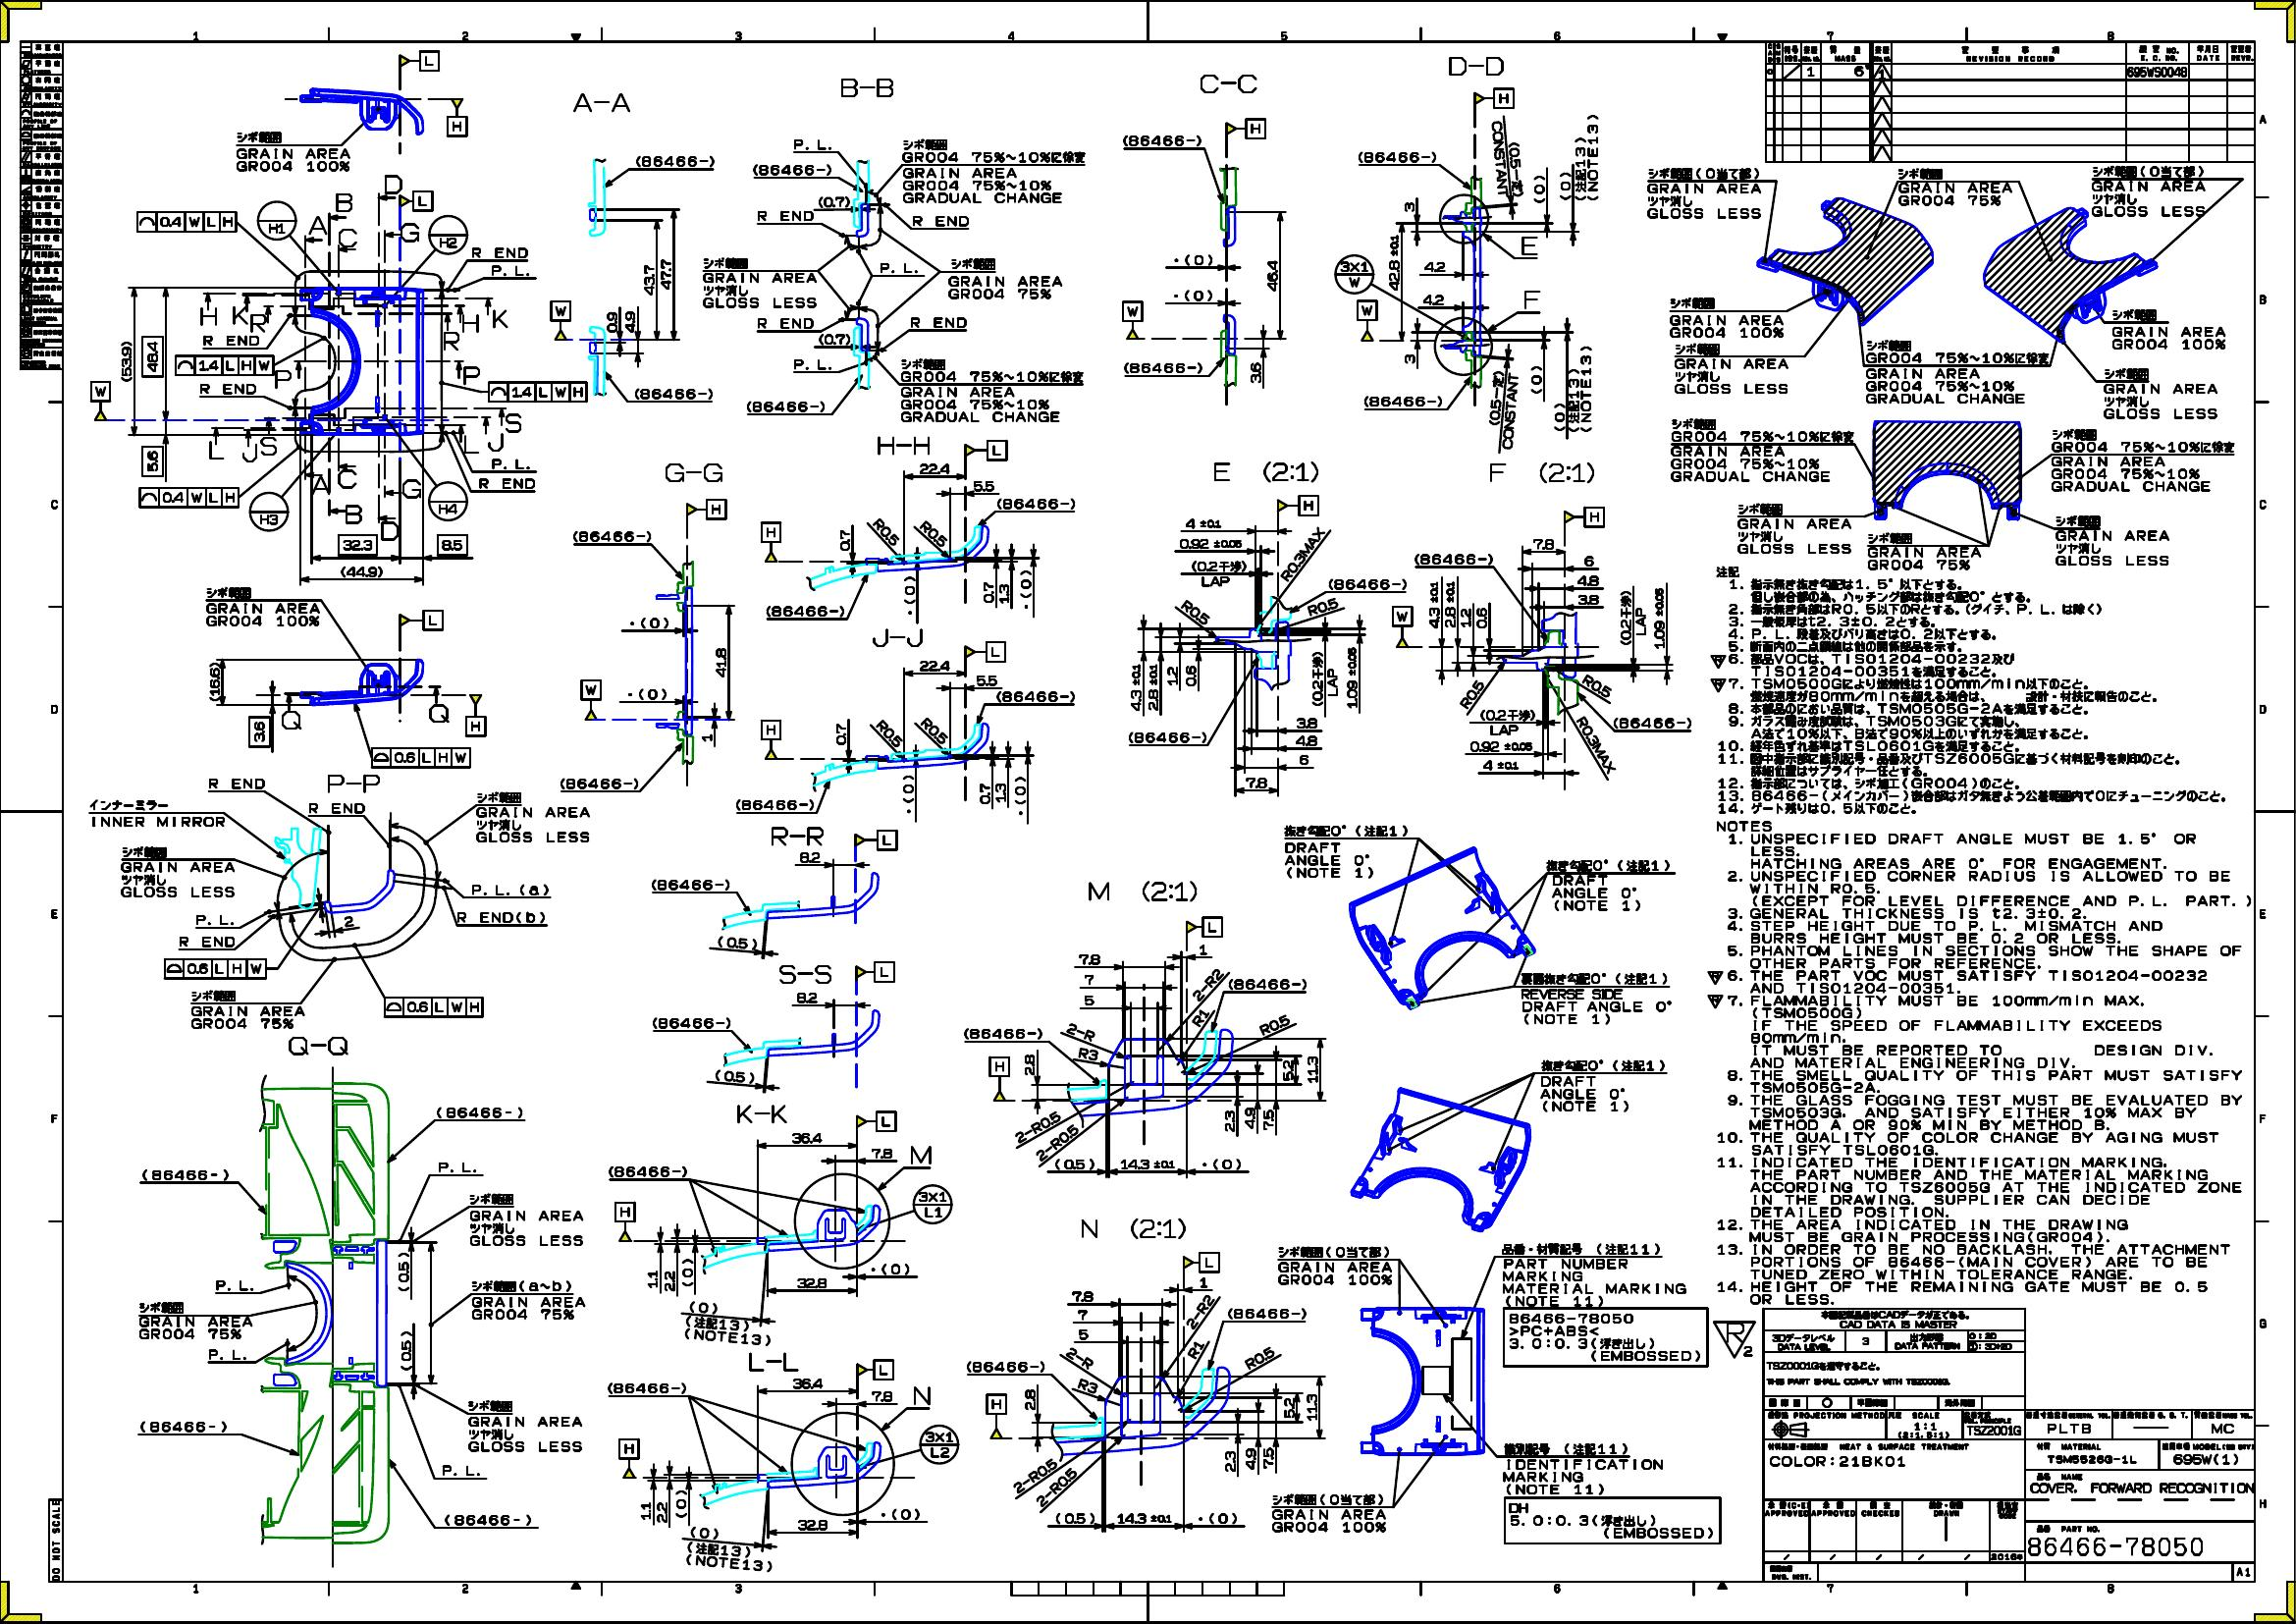anntotation_text: (1709, 816, 2245, 1306), (1706, 564, 2236, 816), (1497, 1239, 1688, 1309), (899, 137, 1087, 206), (2048, 429, 2236, 496), (899, 359, 1086, 425), (1866, 337, 2050, 404), (1669, 417, 1853, 483), (1502, 1308, 1709, 1362), (1504, 1496, 1722, 1543), (1497, 1441, 1665, 1496), (1521, 972, 1674, 1030), (1537, 1060, 1669, 1118), (1544, 858, 1671, 916), (1281, 824, 1409, 881), (464, 1397, 585, 1454), (1646, 165, 1765, 221), (1672, 341, 1794, 395), (1736, 501, 1855, 555), (467, 1192, 585, 1246), (699, 255, 817, 309), (119, 844, 237, 898), (473, 791, 590, 844), (2103, 367, 2219, 420), (2092, 163, 2208, 216), (2055, 515, 2170, 566), (947, 257, 1065, 304), (469, 1276, 587, 1322), (204, 585, 323, 629), (2108, 308, 2227, 352), (1895, 163, 2015, 207), (188, 988, 306, 1032), (1667, 295, 1785, 339), (234, 130, 350, 174), (135, 1301, 255, 1343), (1866, 531, 1982, 573), (88, 798, 225, 831), (1270, 1492, 1388, 1531), (1279, 1246, 1391, 1287), (1075, 1213, 1186, 1244), (1209, 457, 1321, 487), (1084, 877, 1203, 905), (1483, 459, 1599, 487), (1572, 112, 1602, 204), (683, 1543, 773, 1571), (1490, 367, 1520, 450), (1567, 341, 1593, 434), (685, 1316, 769, 1345), (139, 487, 239, 510), (1493, 118, 1521, 199), (163, 958, 267, 979), (135, 211, 237, 232), (1188, 555, 1247, 591), (383, 998, 485, 1018), (174, 355, 276, 374), (1309, 649, 1339, 714), (371, 749, 471, 768), (1332, 253, 1375, 297), (488, 383, 587, 402), (1442, 53, 1509, 81), (425, 213, 467, 257), (1713, 1316, 1755, 1359), (917, 1422, 959, 1464), (425, 480, 467, 522), (1618, 589, 1648, 647), (913, 1183, 954, 1225), (256, 199, 297, 241), (248, 492, 290, 533), (455, 909, 548, 926), (443, 1510, 532, 1527), (1477, 708, 1535, 735), (662, 459, 724, 483), (1198, 72, 1260, 97), (606, 1162, 690, 1179), (557, 773, 641, 791), (631, 385, 715, 402), (1123, 359, 1205, 376), (1356, 148, 1439, 165), (137, 1418, 228, 1434), (733, 1100, 791, 1125), (632, 153, 713, 170), (963, 1025, 1043, 1042), (285, 1035, 346, 1058), (437, 1106, 525, 1121), (1613, 714, 1692, 731), (1409, 550, 1497, 566), (135, 1165, 234, 1179), (873, 432, 933, 455), (571, 90, 631, 112), (569, 526, 655, 541), (1325, 575, 1411, 591), (731, 798, 817, 814), (1358, 392, 1444, 408), (745, 399, 829, 415), (1224, 1304, 1307, 1320), (469, 881, 552, 896), (1121, 132, 1203, 148), (1126, 729, 1209, 745), (1226, 975, 1309, 991), (650, 1012, 733, 1028), (648, 875, 731, 891), (768, 824, 824, 847), (964, 1359, 1045, 1374), (996, 496, 1077, 511), (323, 772, 383, 793), (776, 963, 831, 986), (47, 1497, 61, 1584), (748, 163, 833, 178), (994, 689, 1079, 703), (762, 605, 845, 619), (870, 626, 924, 647), (606, 1380, 687, 1394), (984, 1392, 1007, 1439), (747, 1352, 798, 1373), (908, 313, 966, 330), (987, 1056, 1010, 1100), (306, 800, 369, 816), (474, 475, 538, 490), (617, 1438, 641, 1478), (580, 680, 604, 721), (1267, 547, 1337, 561), (1560, 738, 1630, 752), (755, 207, 817, 223), (1121, 301, 1145, 339), (912, 213, 971, 228), (177, 933, 237, 949), (202, 332, 262, 348), (399, 610, 443, 631), (761, 719, 783, 759), (964, 640, 1005, 663), (1224, 118, 1267, 139), (964, 439, 1007, 460), (685, 497, 727, 518), (466, 694, 487, 736), (197, 381, 260, 395), (550, 299, 571, 341), (1277, 496, 1319, 517), (1393, 605, 1414, 647), (1563, 506, 1606, 527), (856, 830, 898, 851), (90, 381, 112, 420), (1184, 916, 1223, 939), (615, 1202, 636, 1243), (856, 1111, 896, 1132), (399, 49, 439, 70), (1474, 88, 1514, 109), (755, 315, 813, 329), (207, 777, 265, 791), (854, 961, 892, 982), (1358, 299, 1377, 341), (436, 1461, 481, 1478), (761, 522, 780, 562), (856, 1359, 892, 1380), (436, 1158, 480, 1176), (471, 244, 532, 257), (789, 355, 836, 371), (485, 262, 532, 278), (1182, 1251, 1221, 1271), (446, 98, 466, 137), (877, 258, 922, 274), (399, 190, 432, 211), (399, 218, 423, 246), (195, 912, 237, 928), (206, 1345, 246, 1360), (213, 1278, 255, 1292), (791, 137, 833, 151), (1520, 232, 1541, 260), (488, 457, 532, 469), (908, 1142, 931, 1165), (332, 190, 355, 213), (381, 172, 404, 195), (306, 213, 327, 237), (402, 478, 423, 501), (490, 308, 511, 330), (281, 708, 302, 729), (439, 330, 460, 352), (912, 1385, 931, 1408), (337, 466, 357, 489), (462, 366, 481, 388), (1521, 288, 1541, 311), (339, 225, 357, 250), (460, 434, 480, 455), (429, 703, 450, 722), (248, 313, 269, 332), (239, 443, 258, 464), (504, 411, 523, 432), (460, 313, 480, 334), (487, 431, 504, 453), (379, 518, 397, 541), (230, 304, 248, 325), (260, 436, 278, 457), (311, 475, 329, 496), (346, 501, 362, 524), (199, 306, 216, 325), (274, 369, 292, 388), (207, 439, 223, 460)
dimension_text: (1177, 534, 1242, 550), (1651, 587, 1667, 650), (1121, 1153, 1175, 1171), (1467, 738, 1534, 752), (337, 533, 378, 555), (141, 337, 163, 378), (1116, 1508, 1173, 1524), (1386, 232, 1400, 297), (116, 339, 134, 387), (1426, 580, 1442, 631), (711, 1067, 755, 1084), (1029, 1480, 1084, 1494), (1007, 1469, 1061, 1483), (1031, 1135, 1084, 1149), (1012, 1121, 1063, 1135), (815, 192, 852, 211), (657, 253, 675, 294), (1172, 288, 1216, 304), (878, 1504, 922, 1520), (1442, 580, 1456, 629), (248, 717, 271, 747), (437, 533, 469, 554), (624, 685, 666, 701), (1130, 659, 1142, 712), (1528, 172, 1548, 206), (1168, 250, 1214, 264), (627, 615, 673, 629), (1184, 515, 1224, 531), (141, 446, 162, 476), (1556, 169, 1574, 204), (1017, 568, 1031, 612), (207, 659, 221, 703), (1052, 1510, 1096, 1524), (1188, 977, 1231, 991), (337, 564, 386, 576), (1267, 255, 1281, 297), (715, 935, 757, 949), (397, 1251, 411, 1294), (1195, 1510, 1237, 1524), (1200, 1156, 1242, 1171), (1054, 1156, 1096, 1171), (903, 573, 915, 620), (915, 460, 952, 476), (870, 1262, 910, 1276), (901, 775, 915, 816), (641, 262, 657, 297), (401, 1329, 413, 1373), (680, 1257, 696, 1290), (917, 657, 950, 673), (1581, 680, 1618, 694), (1147, 663, 1158, 712), (1061, 1353, 1098, 1367), (1179, 1306, 1221, 1318), (1240, 1352, 1277, 1366), (1014, 775, 1026, 817), (794, 1274, 826, 1290), (815, 332, 850, 346), (870, 524, 905, 538), (713, 647, 727, 682), (789, 1130, 824, 1144), (1245, 362, 1265, 387), (1530, 360, 1542, 399), (1481, 759, 1520, 772), (690, 1526, 720, 1541), (1305, 1055, 1321, 1084), (980, 578, 996, 606), (792, 1376, 824, 1390), (1065, 1025, 1096, 1039), (1455, 691, 1490, 703), (1256, 1018, 1291, 1030), (673, 1489, 687, 1519), (996, 580, 1012, 606), (870, 1144, 896, 1160), (1242, 1445, 1258, 1471), (917, 529, 950, 541), (915, 724, 949, 736), (871, 726, 905, 738), (1075, 953, 1103, 967), (1307, 601, 1339, 613), (975, 673, 1000, 689), (1421, 292, 1448, 306), (794, 990, 820, 1004), (653, 1499, 668, 1526), (1261, 1445, 1275, 1471), (796, 1519, 826, 1531), (1068, 1290, 1098, 1302), (1305, 1392, 1318, 1422), (1423, 258, 1446, 274), (1474, 606, 1490, 629), (1163, 664, 1179, 687), (870, 1387, 892, 1403), (1221, 1450, 1237, 1473), (624, 309, 638, 334), (1576, 573, 1600, 587), (1295, 733, 1319, 747), (1245, 775, 1270, 789), (971, 478, 996, 492), (798, 849, 822, 863), (662, 1267, 676, 1292), (690, 1301, 718, 1313), (1022, 1387, 1036, 1411), (1073, 1380, 1098, 1394), (1223, 1107, 1237, 1132), (1180, 608, 1212, 619), (1184, 663, 1196, 689), (838, 527, 850, 554), (1022, 1051, 1035, 1077), (604, 309, 618, 332), (1532, 538, 1555, 552), (1295, 715, 1318, 729), (638, 1499, 652, 1522), (1184, 1343, 1207, 1357), (1282, 1396, 1296, 1418), (1242, 1106, 1256, 1128), (993, 780, 1007, 803), (645, 1269, 661, 1288), (1460, 605, 1472, 629), (834, 722, 847, 747), (1578, 594, 1600, 606), (1079, 1048, 1101, 1060), (1282, 1058, 1295, 1081), (978, 782, 991, 805), (1400, 197, 1416, 214), (1263, 1109, 1274, 1132), (1404, 352, 1418, 367), (1296, 750, 1310, 766), (699, 731, 713, 747), (1189, 1014, 1210, 1025), (1196, 942, 1210, 956), (1581, 555, 1597, 568), (1084, 972, 1094, 990), (1075, 1309, 1089, 1322), (1196, 1276, 1209, 1290), (1084, 993, 1096, 1007), (343, 914, 355, 926), (1079, 1329, 1091, 1341)
object: (260, 1083, 390, 1541), (1346, 844, 1535, 1011), (293, 267, 446, 453), (1349, 1086, 1532, 1232), (1982, 206, 2159, 344), (1757, 195, 1934, 329), (1360, 1304, 1486, 1457), (1051, 1367, 1230, 1455), (1063, 1028, 1235, 1120), (1871, 418, 2022, 520), (703, 1200, 880, 1271), (699, 1441, 882, 1508), (806, 524, 989, 591), (812, 722, 989, 789), (272, 826, 395, 914), (722, 872, 880, 935), (653, 559, 697, 765), (1440, 176, 1483, 388), (1497, 610, 1579, 715), (722, 1009, 880, 1063), (1212, 596, 1291, 691), (281, 657, 427, 705), (848, 158, 877, 392), (299, 86, 423, 135), (587, 156, 608, 395), (1217, 167, 1238, 385)
title_block: (1764, 1308, 2256, 1582), (1764, 40, 2256, 162), (19, 40, 61, 371)
